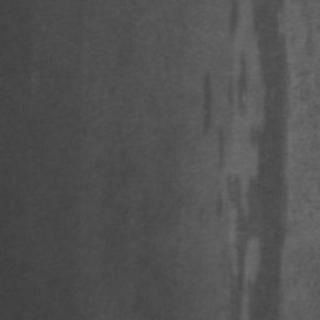inclusion: (215, 1, 288, 316)
